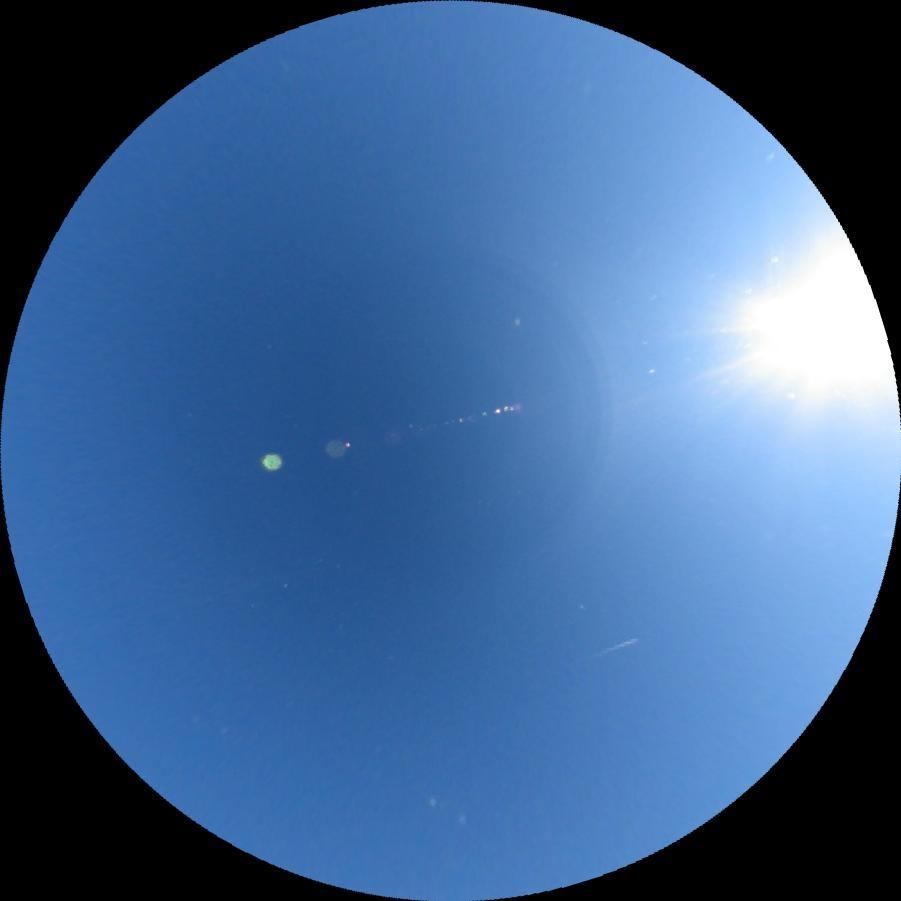contrail young: (587, 636, 638, 660)
